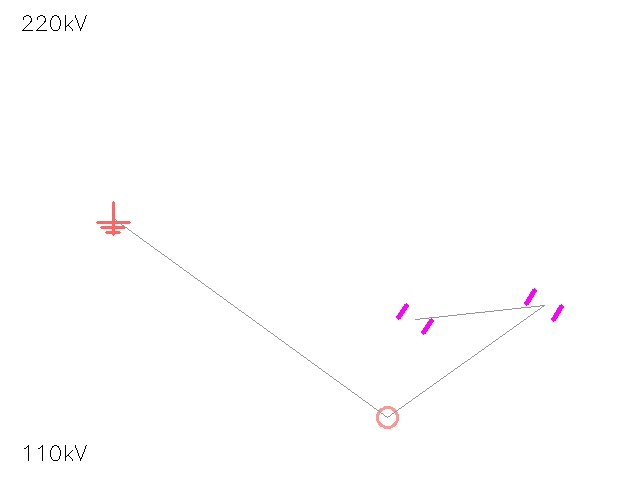capacitor: (518, 279, 570, 331), (391, 295, 439, 343)
current_transformer: (366, 396, 408, 438)
ground: (97, 202, 129, 234)
